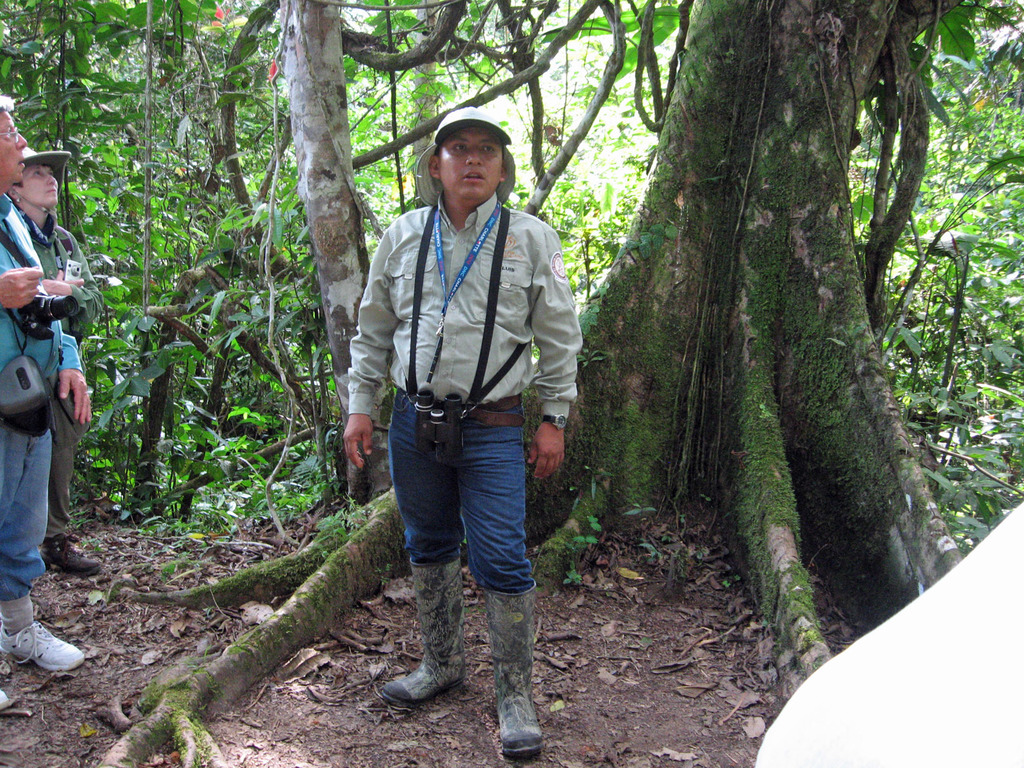Tree: (124, 0, 1024, 768), (0, 0, 1024, 520)
